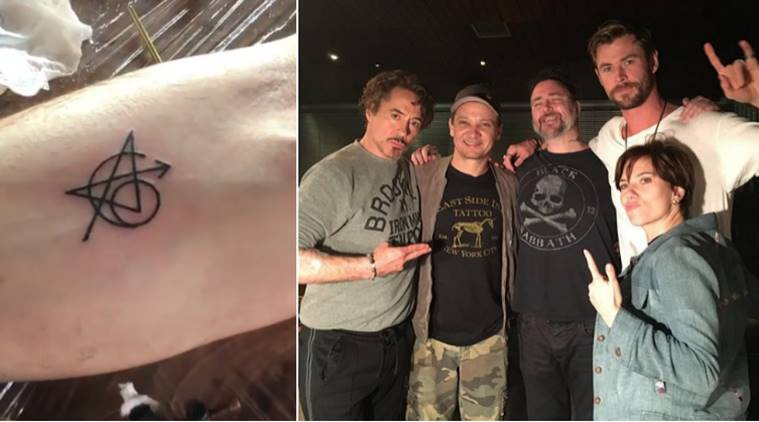bad: (591, 46, 653, 108), (370, 94, 432, 156), (607, 164, 659, 216), (453, 113, 496, 156), (525, 89, 568, 132)
